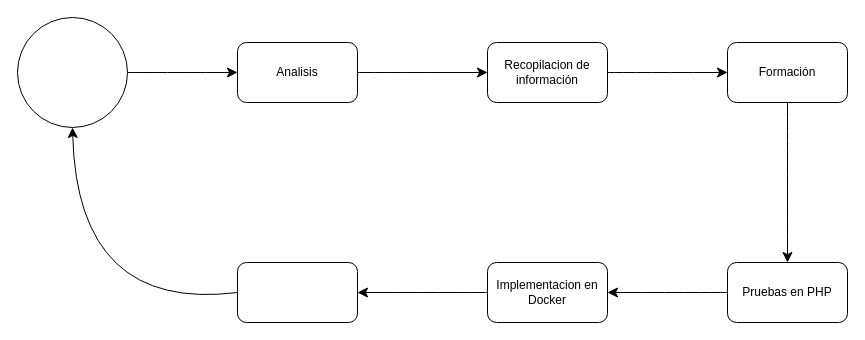
Some shapes in this 865 by 340 pixel diagram are drawn without their labels. The shapes that lost their labels are listed below. From the top down, each one's centre as x and y in pixels, then its label:
At [72,72]: "Siguiente fase".
At [297,292]: "Documentación".
